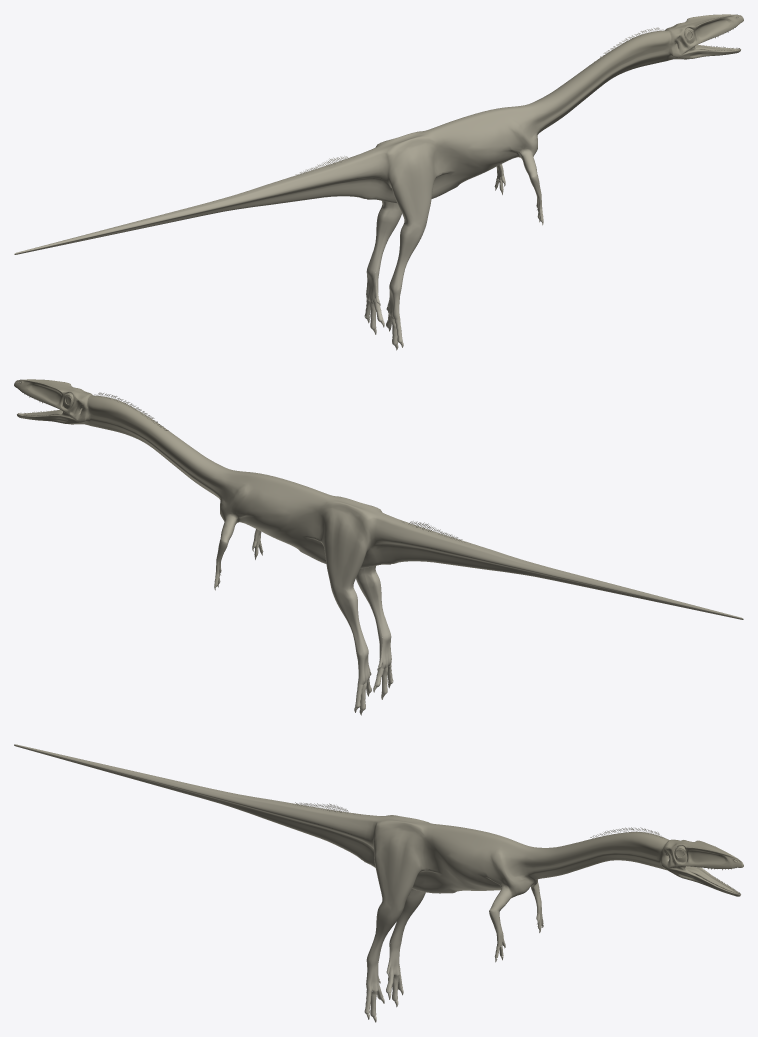
Rendered from coelophysis.glb.
3 views of the same model, one above another, from view 1: azimuth 30°, elevation 25°; view 2: azimuth 150°, elevation 25°; view 3: azimuth 330°, elevation 25° (orthographic).
Size of the model in its own units: 10 by 3.28 by 1.12.
